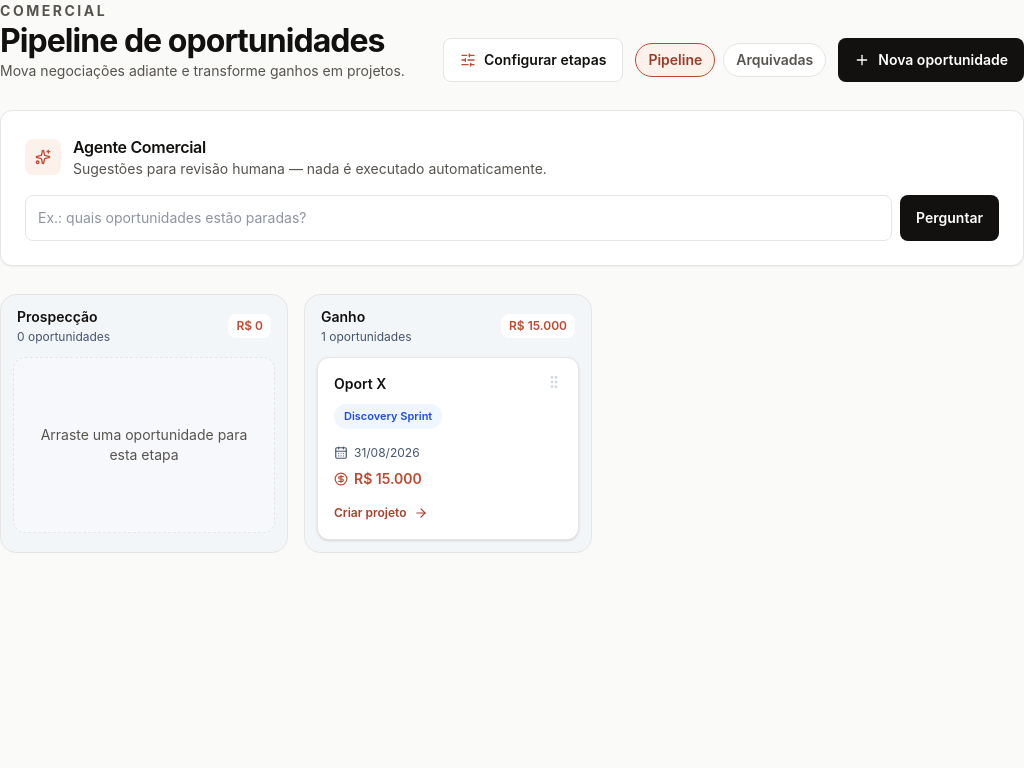
it: a proposta gerada por IA fica registrada como artefato em rascunho
Click the text "Oport X": (360, 384) [334,374,386,394]
(page scrolled)
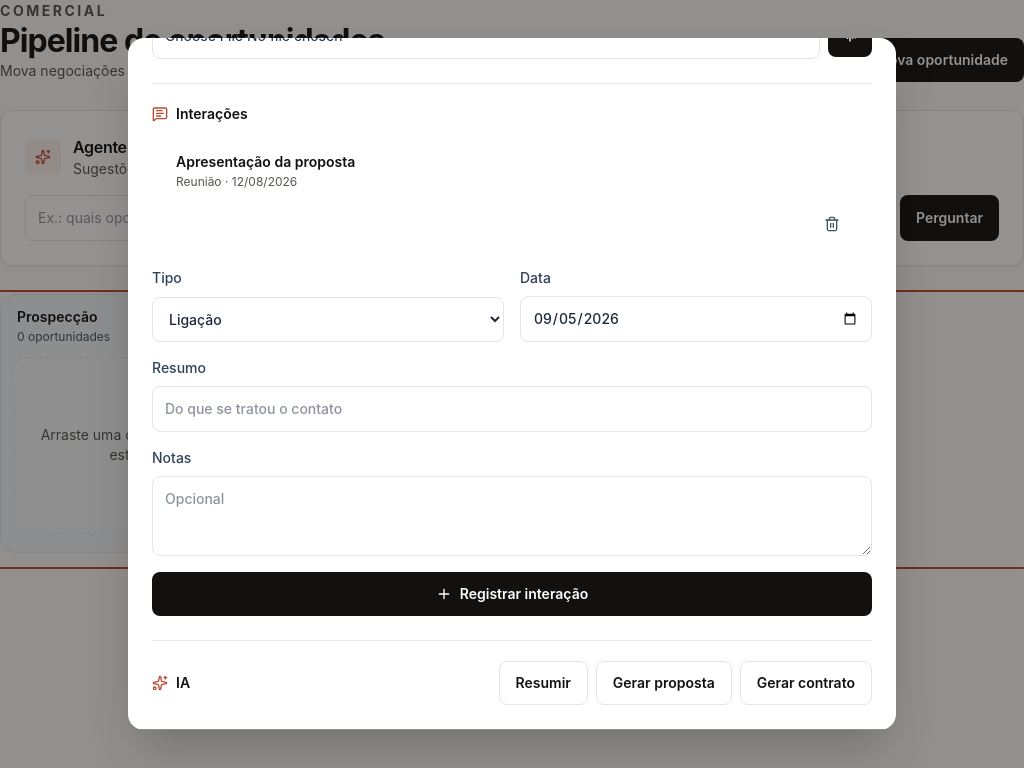
Click the button "Gerar proposta": (664, 683) [596,661,732,705]
(page scrolled)
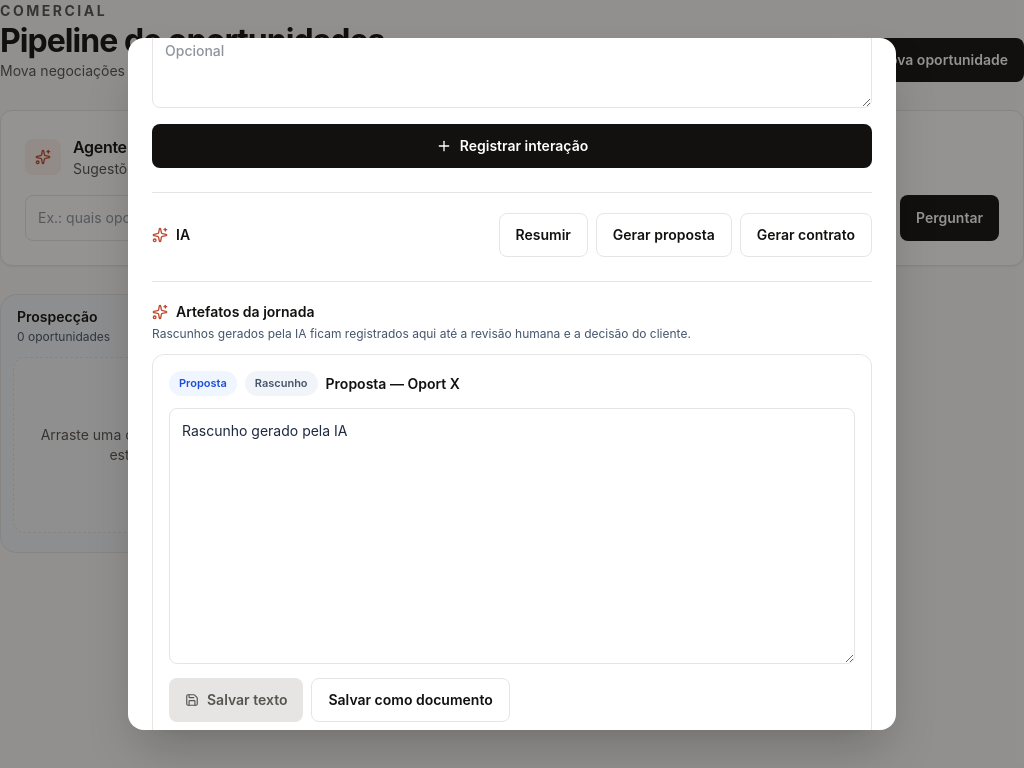
Expected: the text "Proposta — Oport X" is shown, [326,375,460,392]
Expected: the text box named "Conteúdo de Proposta — Oport X" holds "Rascunho gerado pela IA", [169,408,855,664]
Expected: the text "Rascunho" is shown, [245,371,318,396]
